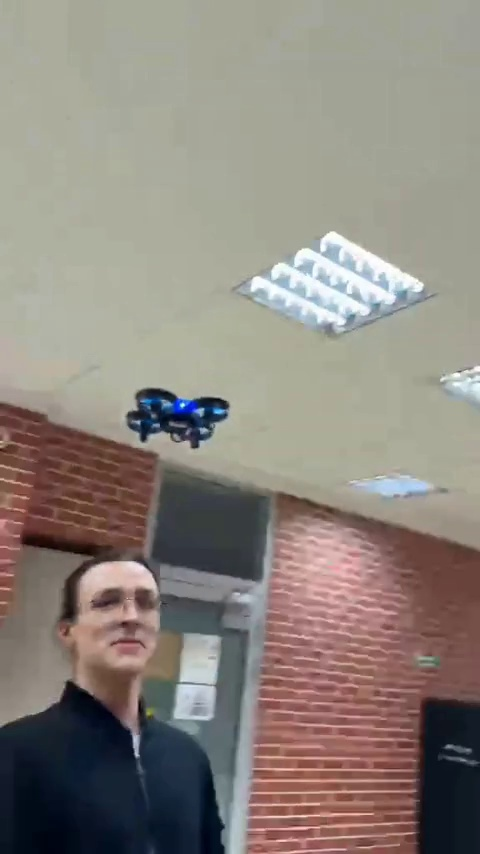drone: (131, 390, 229, 447)
no vest: (6, 553, 230, 852)
